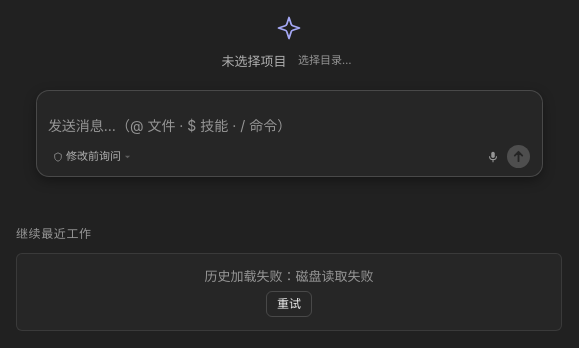
Home (R4-04) › history load failure shows an error with a working retry
Expected: the element with test id "work-overview" shows "历史加载失败", [204,268,296,284]
Click the button "重试".
click(289, 304)  # box [266,291,312,317]
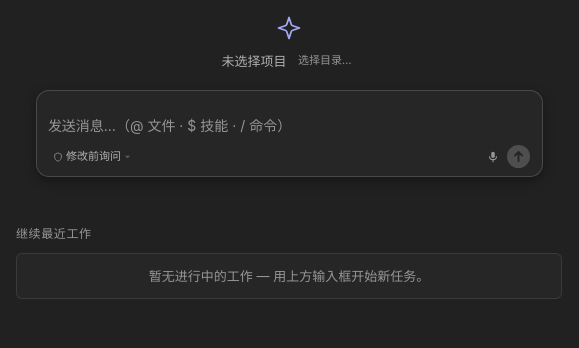
Expected: the element with test id "work-overview" shows "暂无", [16,226,562,299]
